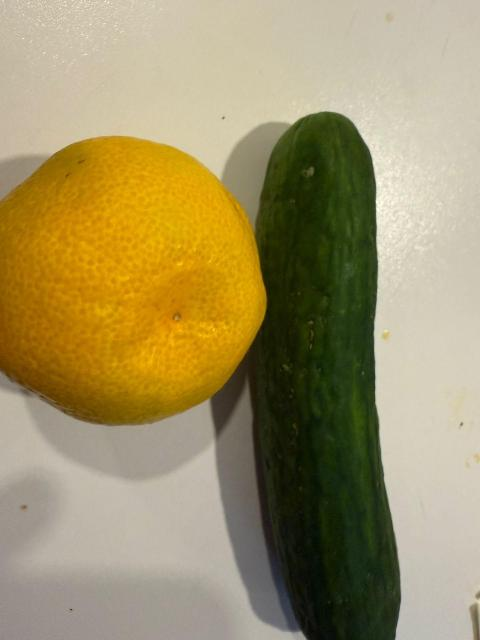Organik: (258, 105, 408, 640), (1, 131, 265, 432)
